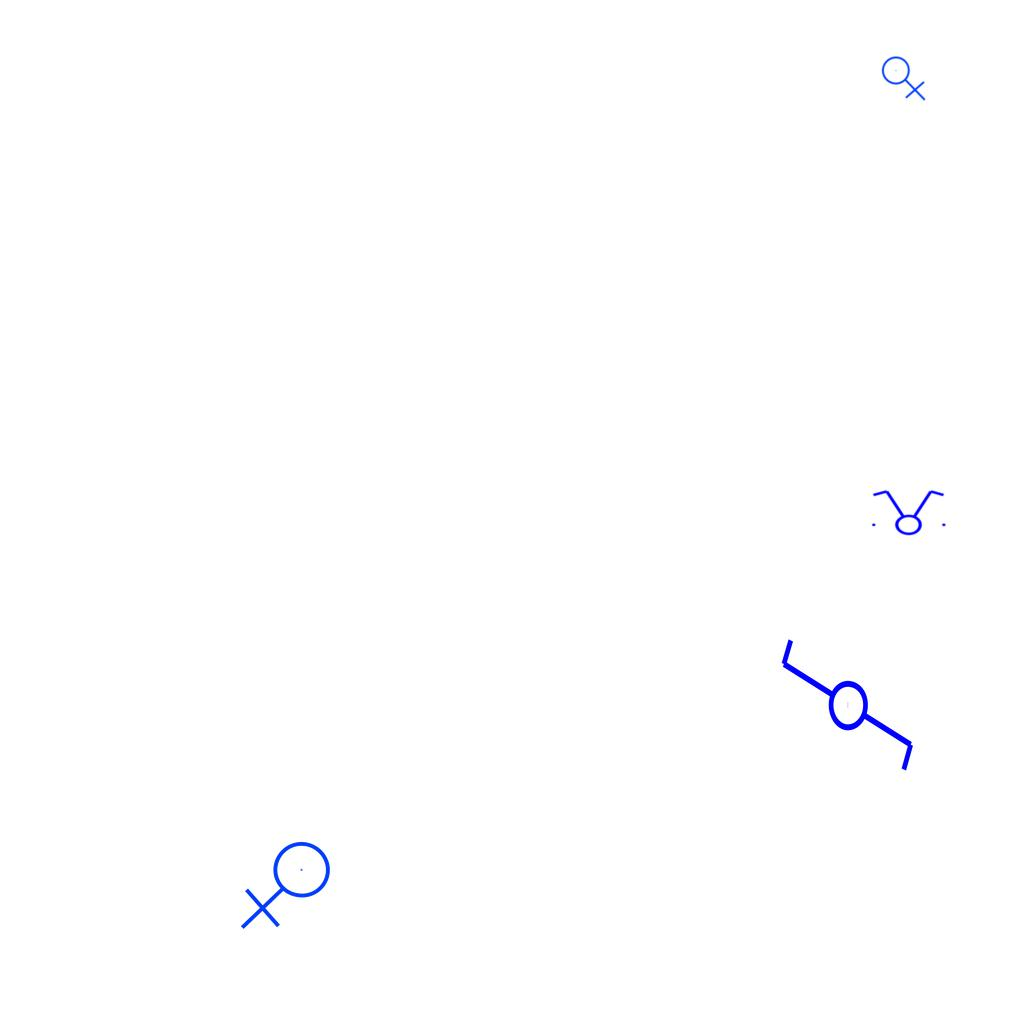Elektroanschluss_allgemein_230V_Geraeteanschlussdose_230V: (240, 840, 339, 934), (881, 52, 928, 101)
Serienschalter: (866, 488, 950, 536)
Wechselschalter: (774, 635, 918, 792)
